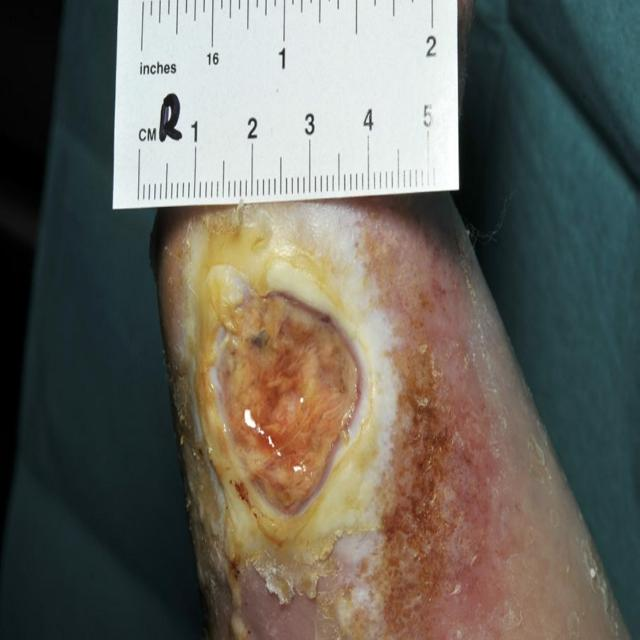wound: (151, 209, 420, 638)
